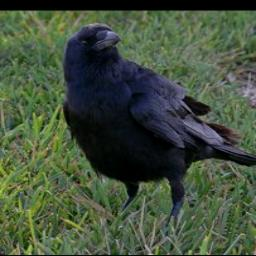Crow: (63, 22, 256, 231)
